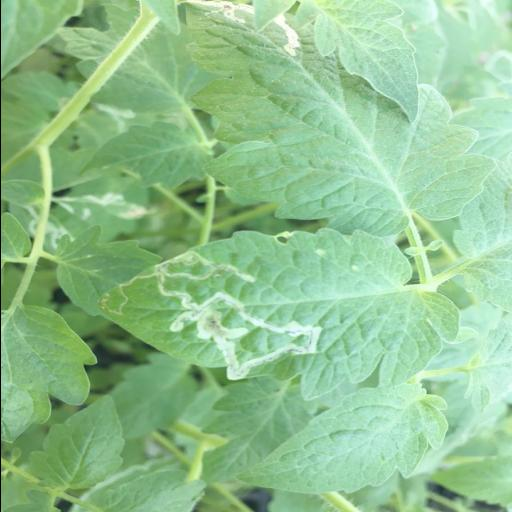Healthy: (236, 382, 450, 496), (26, 395, 122, 490)
Leaf Miner: (100, 224, 460, 400)
